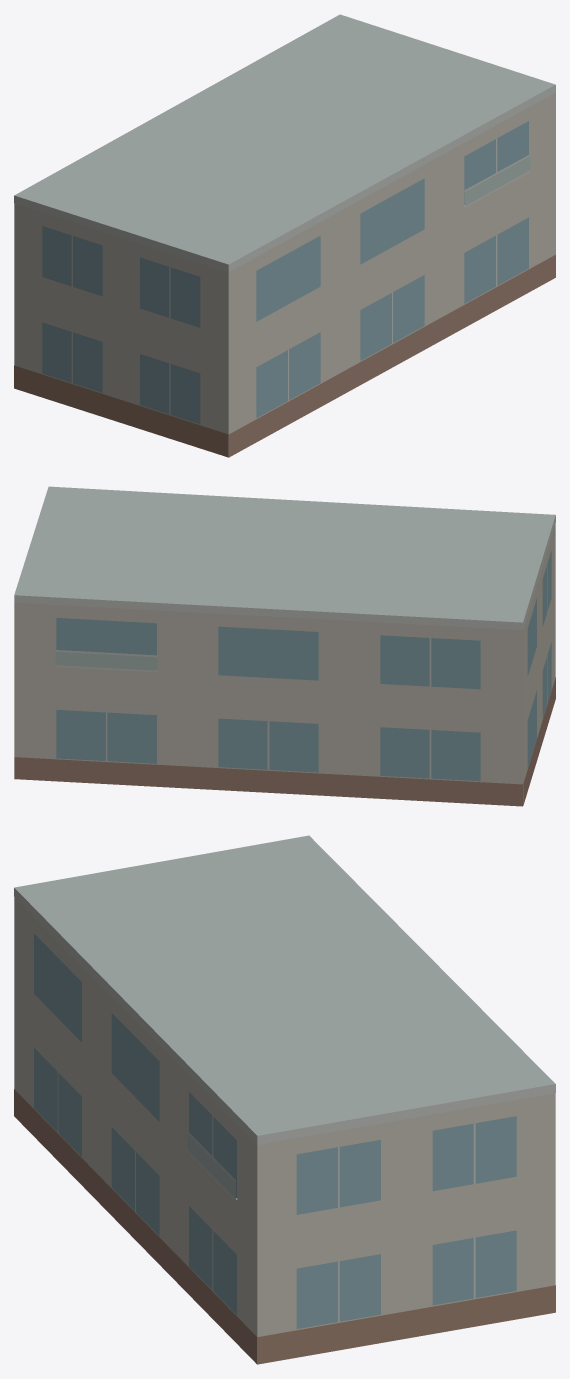
The model's file is survey-upis-32853927.glb.
3 renders of one model, top to bottom at view 1: azimuth 30°, elevation 25°; view 2: azimuth 150°, elevation 25°; view 3: azimuth 270°, elevation 25°, orthographic. The views are drawn at different scales.
Parts seen in each view (by area): view 1: survey-upis-32853927.tmp; view 2: survey-upis-32853927.tmp; view 3: survey-upis-32853927.tmp.
Part boxes in pixels (<box>): survey-upis-32853927.tmp: <box>14,14,555,457</box>; survey-upis-32853927.tmp: <box>14,486,555,806</box>; survey-upis-32853927.tmp: <box>14,835,555,1364</box>.
Size of the model in its own units: 17.21 by 6.1 by 13.11.
